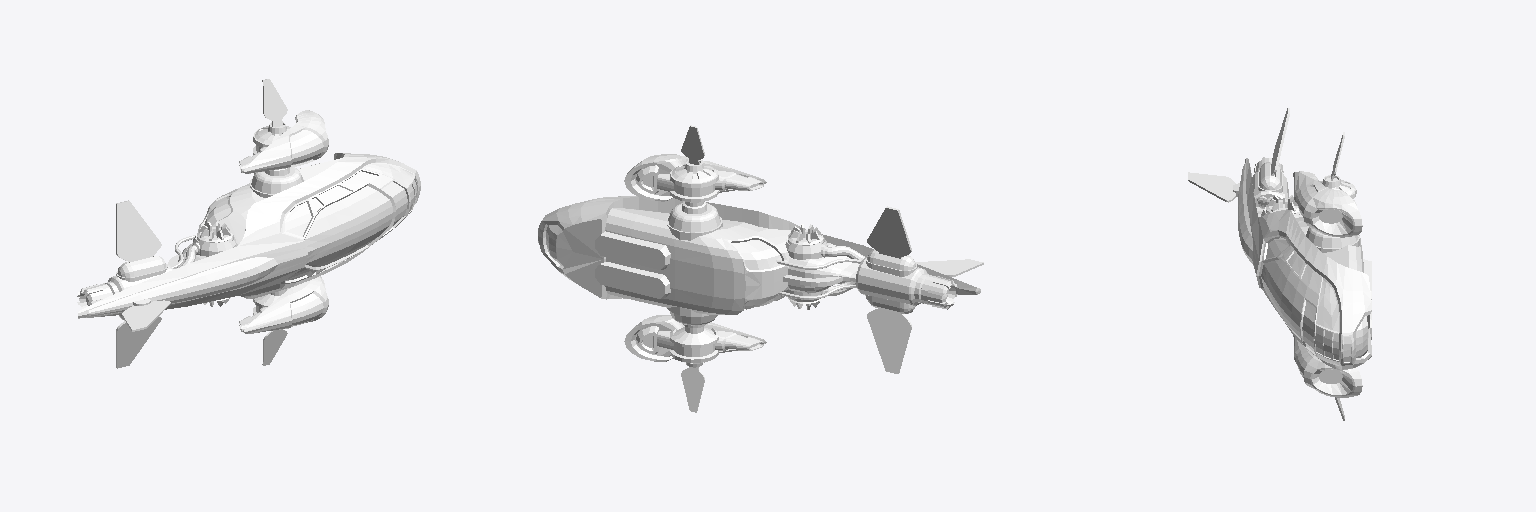
File: Nave-essa.obj
3 renders of one model, left to right at view 1: azimuth 30°, elevation 25°; view 2: azimuth 150°, elevation 25°; view 3: azimuth 270°, elevation 25°, orthographic.
Visible parts, largest first — view 1: Ship_Type_3_Sphere.005; view 2: Ship_Type_3_Sphere.005; view 3: Ship_Type_3_Sphere.005.
Part boxes in pixels (left/top/right/bottom): Ship_Type_3_Sphere.005: left=77, top=79, right=420, bottom=368; Ship_Type_3_Sphere.005: left=538, top=125, right=983, bottom=412; Ship_Type_3_Sphere.005: left=1188, top=108, right=1371, bottom=420.
Bounding box in the file's own units: 0.8613 × 0.5999 × 0.3519.